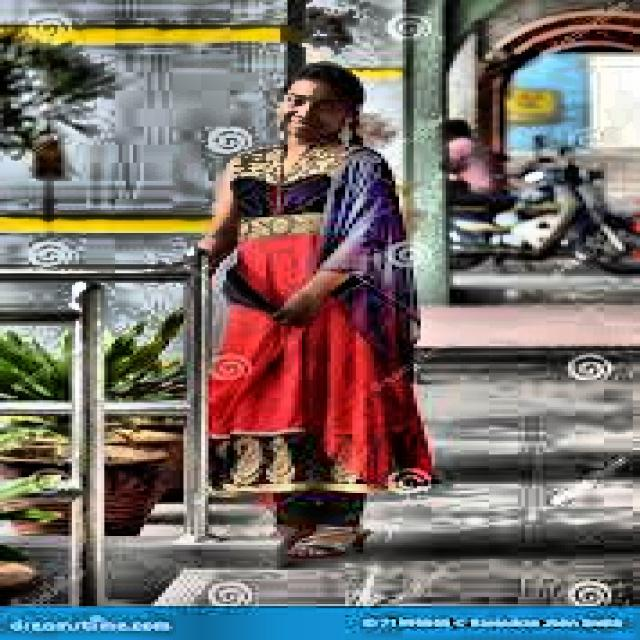Human: (178, 56, 439, 588)
